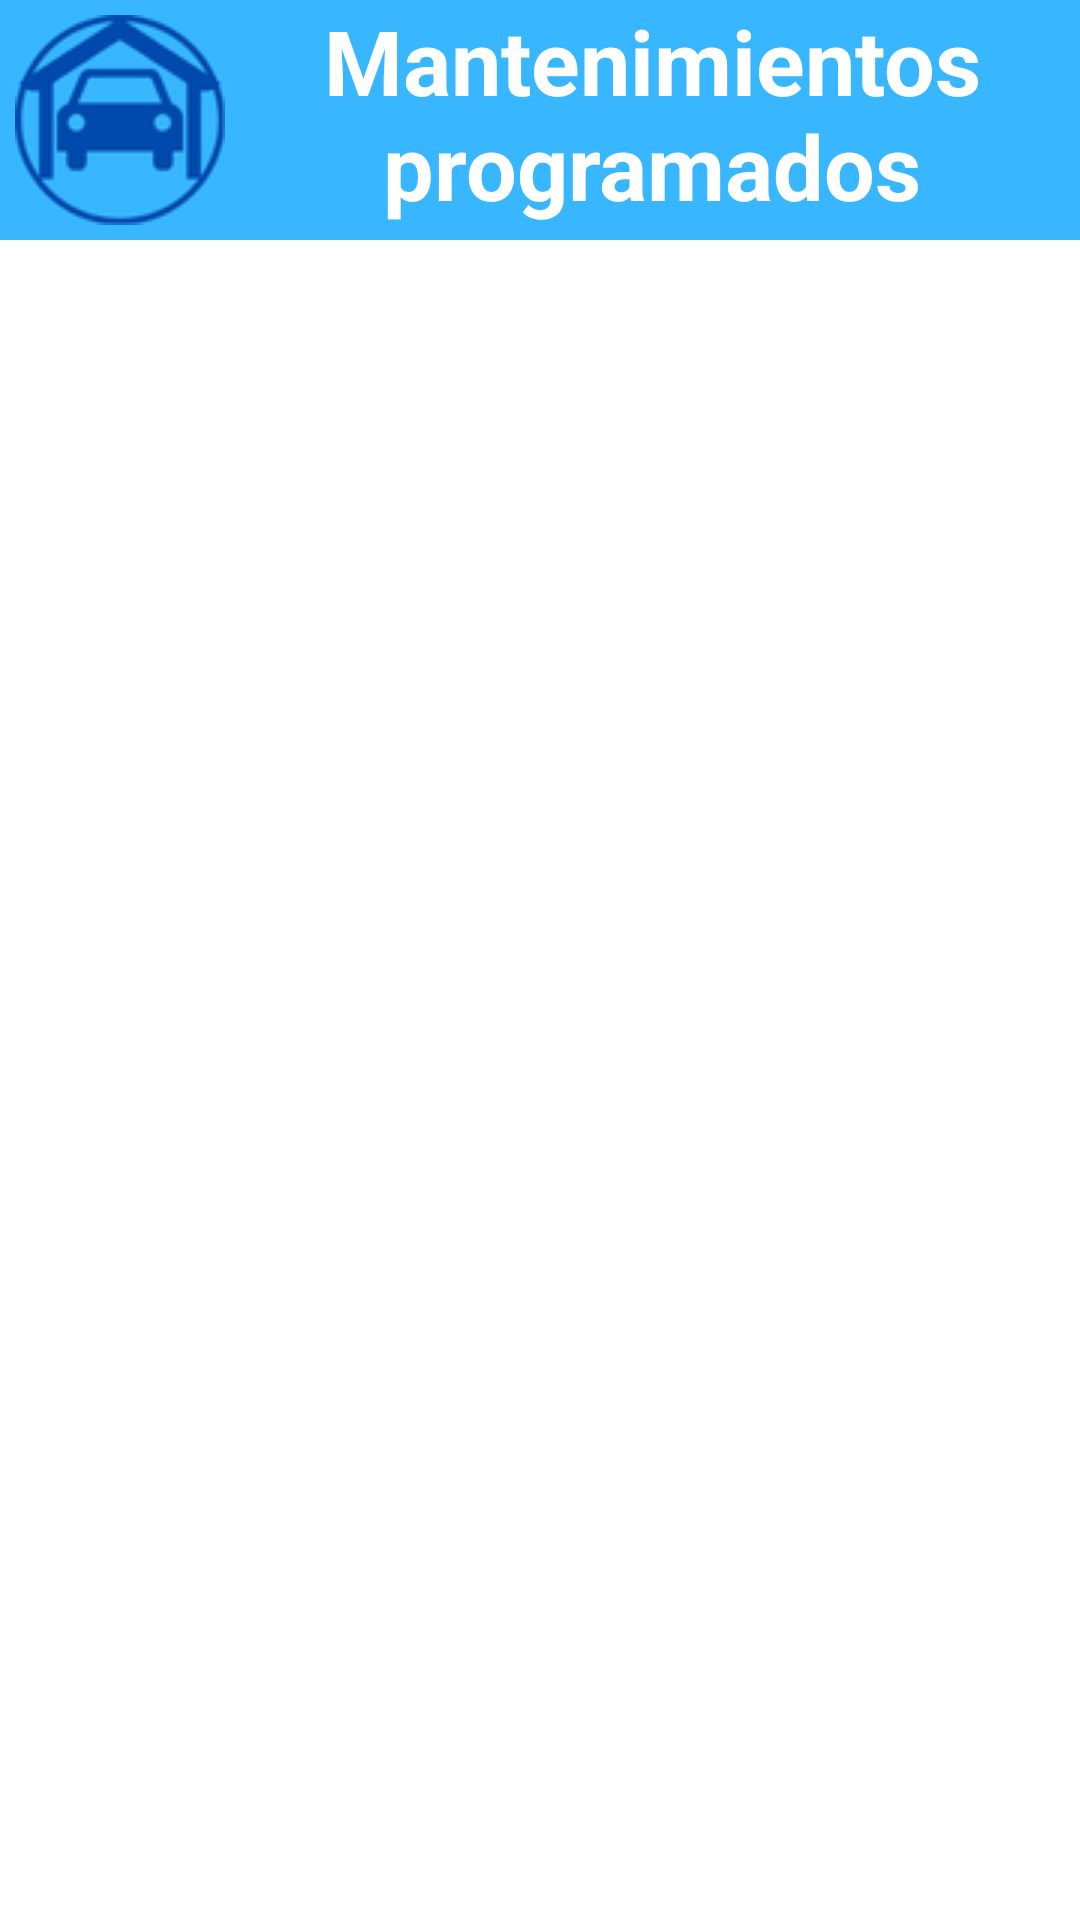

Screen size 1080px x 1920px. Icon name, then its center in pixels as (x,y):
garaje: (120,120)
